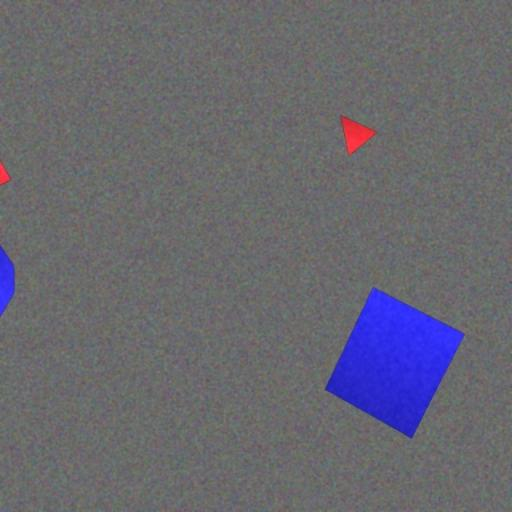BLUE_SQUARE: (324, 286, 466, 440)
